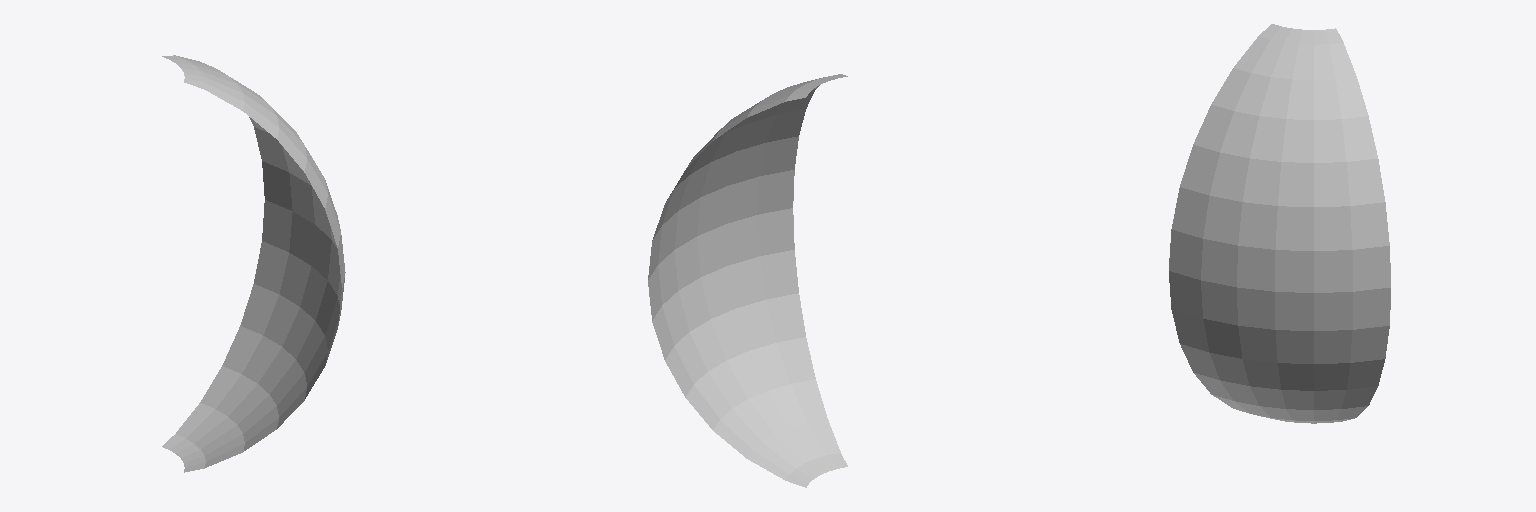
The model's file is ParteVermelha.obj.
3 renders of one model, left to right at view 1: azimuth 30°, elevation 25°; view 2: azimuth 150°, elevation 25°; view 3: azimuth 270°, elevation 25°, orthographic.
Visible parts, largest first — view 1: Sphere.004; view 2: Sphere.004; view 3: Sphere.004.
Part boxes in pixels (bbox=[...]): Sphere.004: bbox=[162, 55, 345, 472]; Sphere.004: bbox=[648, 74, 847, 487]; Sphere.004: bbox=[1169, 24, 1390, 423].
Size of the model in its own units: 0.7787 by 1.9 by 0.9848.